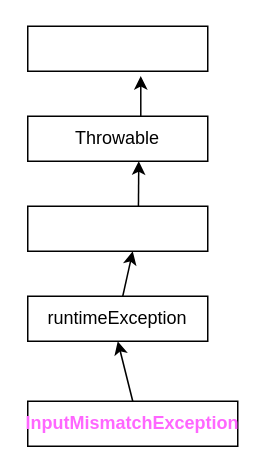
Some shapes in this 264 by 473 pixel diagram are drawn without their labels. The shapes that lost their labels are listed below. From the top down, each one's centre as x and y in pixels, then its label:
At point 117,48: "Objet".
At point 117,228: "Exception".
